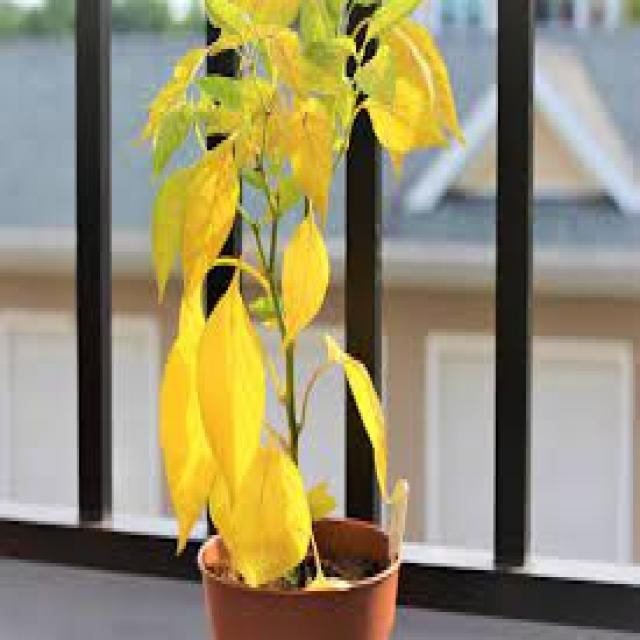virus_kuning: (191, 265, 270, 504), (175, 138, 242, 299), (276, 218, 341, 351)
